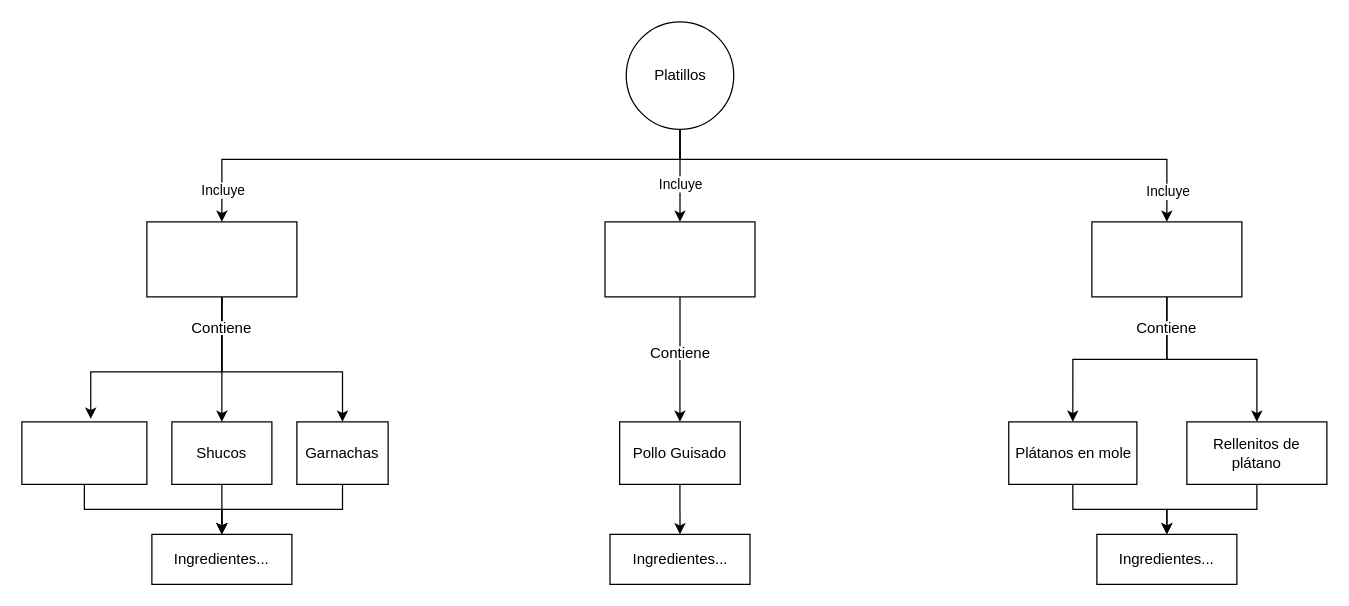
Image size: 1349x606. Some labels were removed from this diagram. The centre of each missing label's shape, as x and y in pixels:
Antojito: point (221, 259)
Plato fuerte: point (679, 259)
Postre: point (1166, 259)
Tostadas de guacamol: point (84, 452)
